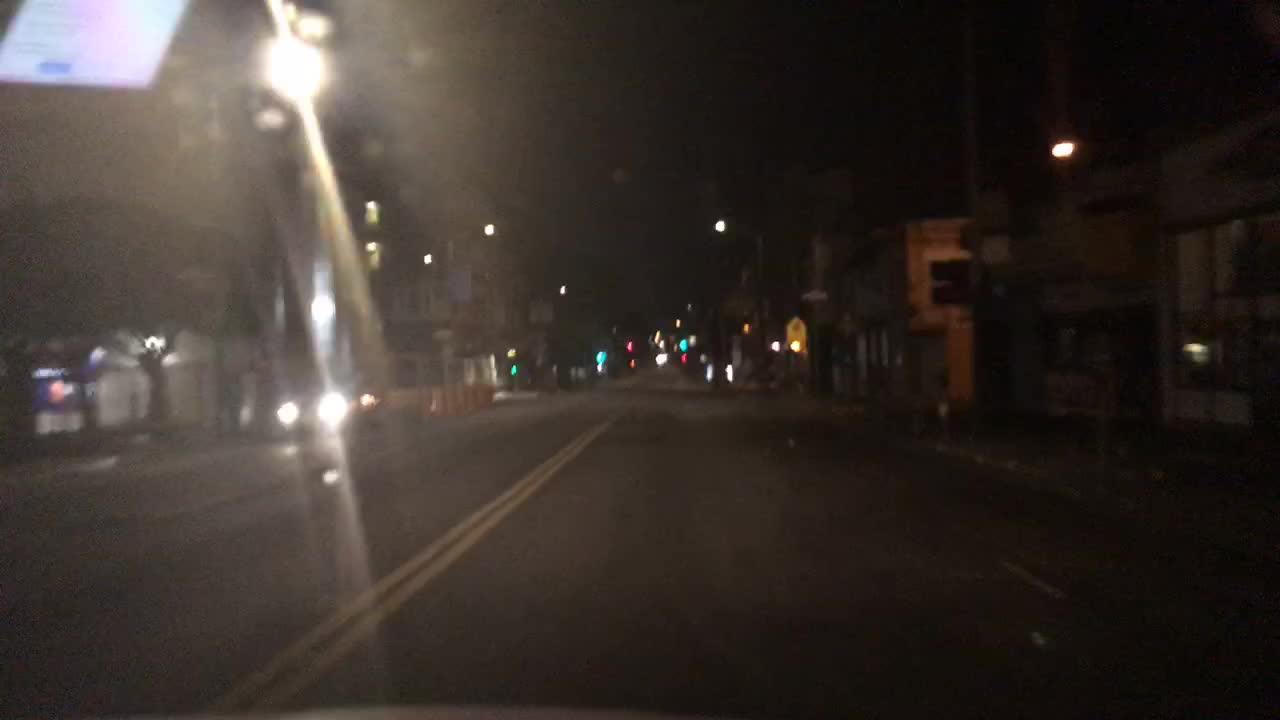car: (278, 365, 379, 434)
traffic light: (595, 347, 606, 366), (741, 319, 753, 334), (676, 339, 687, 353), (626, 337, 635, 354), (507, 360, 516, 376)
traffic sign: (524, 300, 555, 325), (788, 316, 808, 347)
